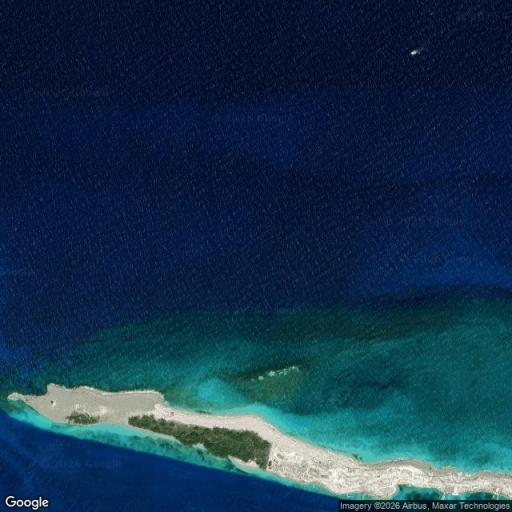ship: (406, 42, 424, 61)
